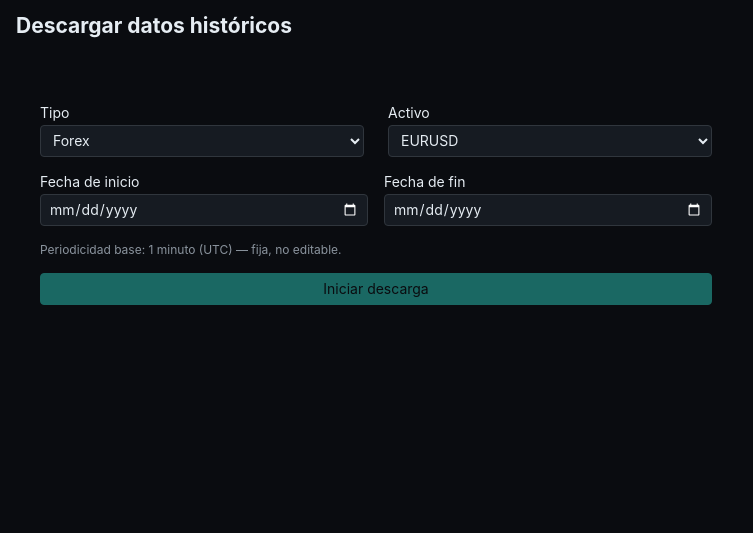
Test: DownloadScreen (TASK-UI-021, SCR-002) › follows the download and shows the success banner, then reloads the history
In the date field labelled "Fecha de inicio": (204, 210) [40,194,368,226], type "2026-01-01"
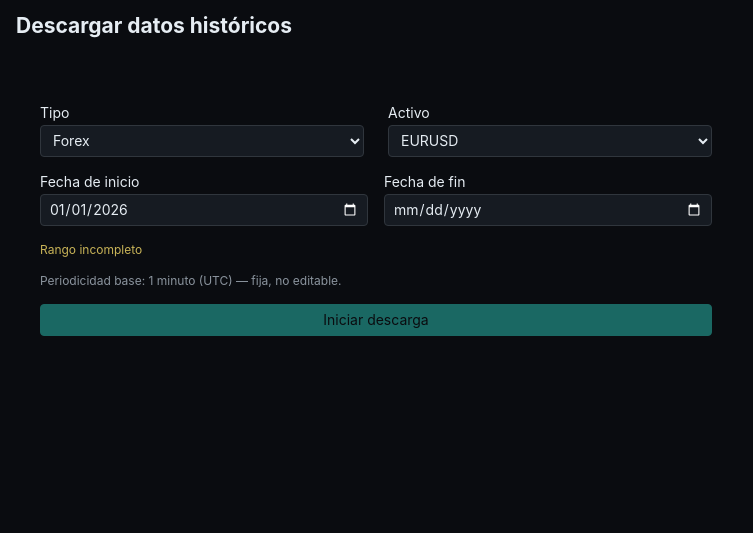
In the date field labelled "Fecha de fin": (548, 210) [384,194,712,226], type "2026-01-02"
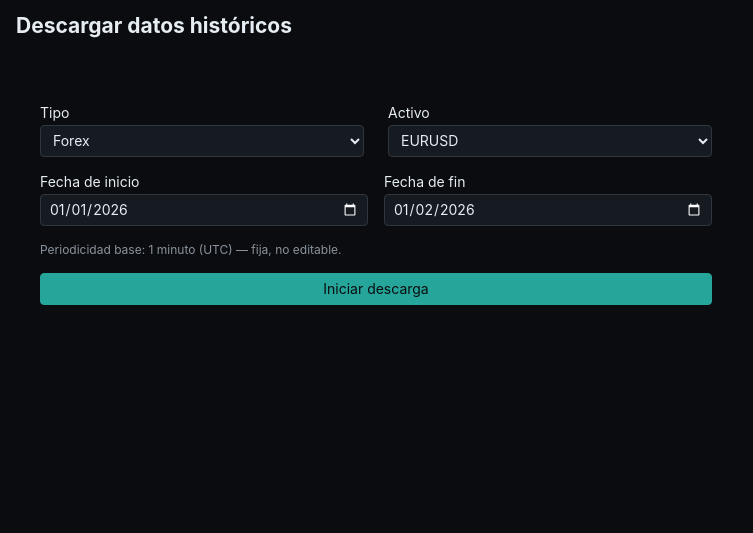
Click the button "Iniciar descarga": (376, 289) [40,273,712,305]
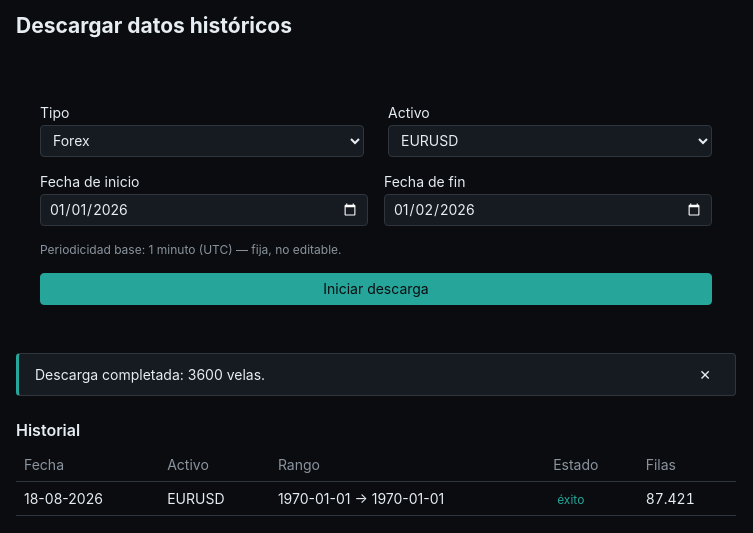
expect the text "Descarga completada: 3600 velas." is shown: met, box [35,366,265,383]
expect the table is shown: met, box [16,448,736,516]
